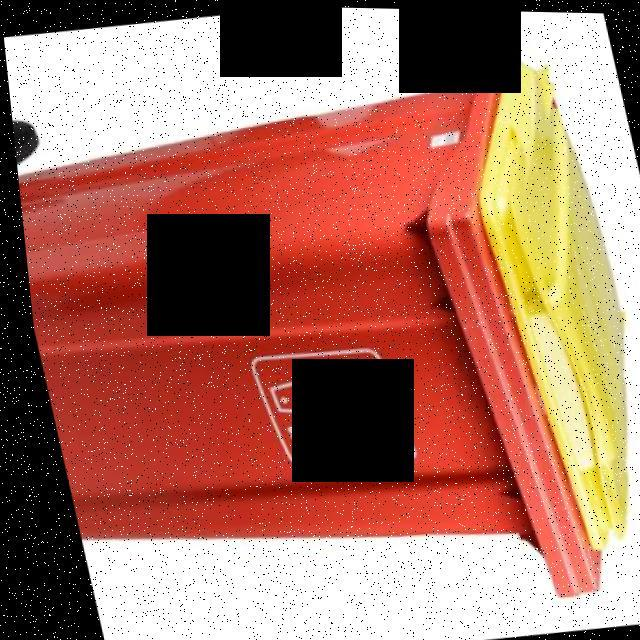bin: (1, 10, 640, 640)
